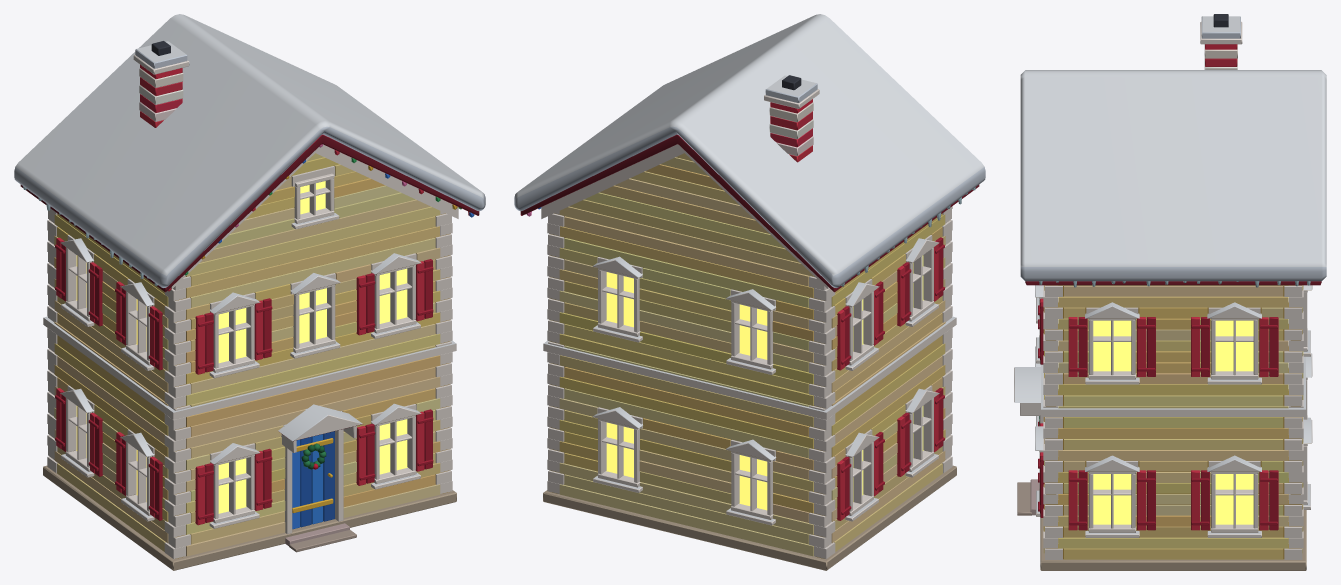
File: CandyHouse_Butter.glb
3 renders of one model, left to right at view 1: azimuth 30°, elevation 25°; view 2: azimuth 150°, elevation 25°; view 3: azimuth 270°, elevation 25°, orthographic.
Visible parts, largest first — view 1: CandyHouse_Butter_Walls, CandyHouse_Butter_Roof, CandyHouse_Butter_Trim2, CandyHouse_Butter_Trim, CandyHouse_Butter_Door, CandyHouse_Butter_Glow, CandyHouse_Butter_Foundation, CandyHouse_Butter_Chimney; view 2: CandyHouse_Butter_Walls, CandyHouse_Butter_Roof, CandyHouse_Butter_Trim, CandyHouse_Butter_Trim2, CandyHouse_Butter_Foundation, CandyHouse_Butter_Glow, CandyHouse_Butter_Chimney; view 3: CandyHouse_Butter_Roof, CandyHouse_Butter_Walls, CandyHouse_Butter_Trim, CandyHouse_Butter_Trim2, CandyHouse_Butter_Glow, CandyHouse_Butter_Foundation, CandyHouse_Butter_Chimney, CandyHouse_Butter_Door.
Part boxes in pixels (bbox=[...]): CandyHouse_Butter_Walls: bbox=[43, 144, 458, 558]; CandyHouse_Butter_Roof: bbox=[14, 14, 485, 292]; CandyHouse_Butter_Trim2: bbox=[55, 237, 433, 378]; CandyHouse_Butter_Trim: bbox=[55, 173, 433, 528]; CandyHouse_Butter_Door: bbox=[278, 404, 362, 552]; CandyHouse_Butter_Glow: bbox=[76, 181, 407, 513]; CandyHouse_Butter_Foundation: bbox=[43, 465, 456, 570]; CandyHouse_Butter_Chimney: bbox=[133, 41, 189, 127]; CandyHouse_Butter_Walls: bbox=[541, 144, 956, 558]; CandyHouse_Butter_Roof: bbox=[514, 14, 985, 292]; CandyHouse_Butter_Trim: bbox=[592, 388, 944, 525]; CandyHouse_Butter_Trim2: bbox=[592, 237, 944, 374]; CandyHouse_Butter_Foundation: bbox=[543, 465, 956, 570]; CandyHouse_Butter_Glow: bbox=[606, 255, 923, 510]; CandyHouse_Butter_Chimney: bbox=[764, 75, 819, 162]; CandyHouse_Butter_Roof: bbox=[1020, 70, 1326, 287]; CandyHouse_Butter_Walls: bbox=[1041, 285, 1305, 559]; CandyHouse_Butter_Trim: bbox=[1035, 346, 1312, 537]; CandyHouse_Butter_Trim2: bbox=[1035, 285, 1312, 384]; CandyHouse_Butter_Glow: bbox=[1093, 320, 1253, 524]; CandyHouse_Butter_Foundation: bbox=[1040, 428, 1306, 570]; CandyHouse_Butter_Chimney: bbox=[1200, 14, 1242, 69]; CandyHouse_Butter_Door: bbox=[1014, 367, 1043, 515].
Bounding box in the file's own units: 28.2 × 36.64 × 22.95.
